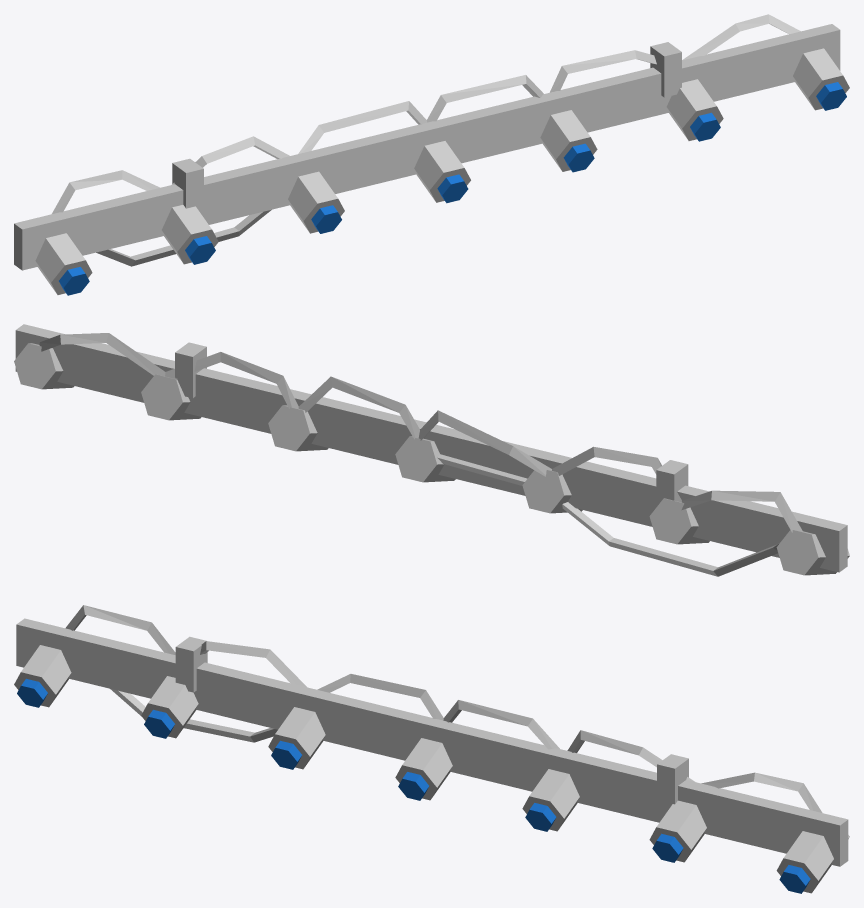
Rendered from SM_spotlight.fbx.
3 views of the same model, one above another, from view 1: azimuth 30°, elevation 25°; view 2: azimuth 150°, elevation 25°; view 3: azimuth 330°, elevation 25° (orthographic).
Visible parts, largest first — view 1: spotlight; view 2: spotlight; view 3: spotlight.
Boxes of the visible parts, x1,y1,x2,y2 form: spotlight: (14,14,849,295); spotlight: (14,324,849,576); spotlight: (14,605,849,893).
Bounding box in the file's own units: 350 × 41.06 × 31.77.
